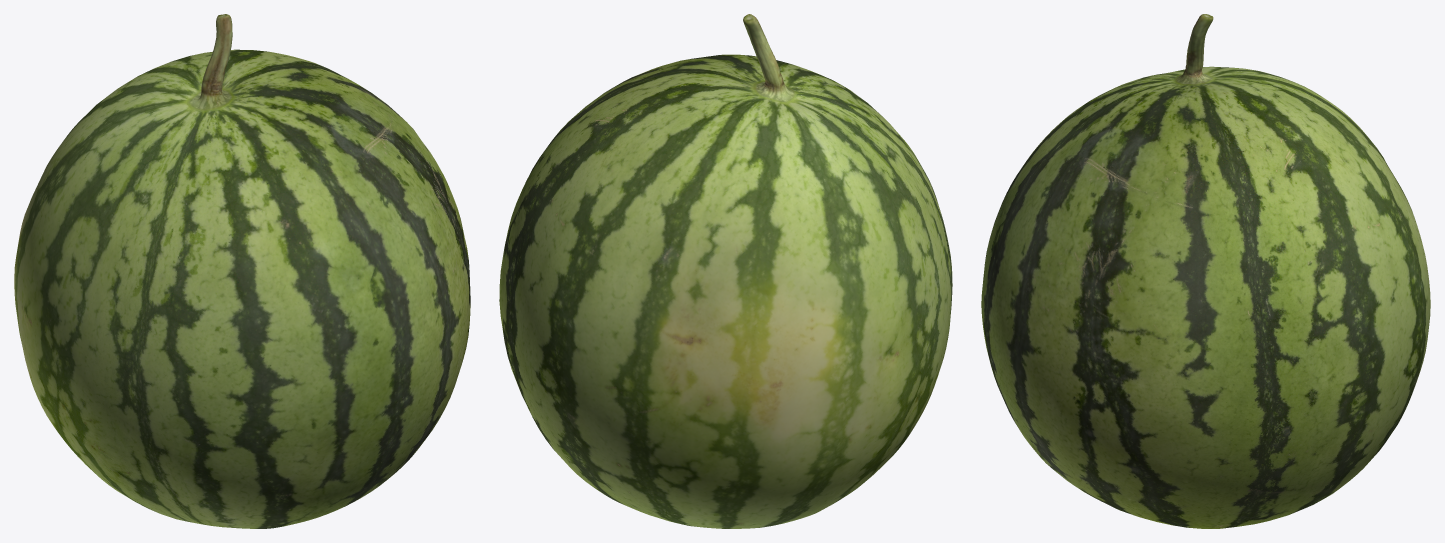
The model's file is SM_Watermelon.fbx.
The picture shows the model from 3 angles, left to right: view 1: azimuth 30°, elevation 25°; view 2: azimuth 150°, elevation 25°; view 3: azimuth 270°, elevation 25°; orthographic projection. The views are drawn at different scales.
Parts seen in each view (by area): view 1: WatermelonPeel, WatermelonStalk; view 2: WatermelonPeel, WatermelonStalk; view 3: WatermelonPeel, WatermelonStalk.
Part boxes in pixels (bbox=[...]): WatermelonPeel: bbox=[14, 49, 470, 528]; WatermelonStalk: bbox=[187, 14, 233, 111]; WatermelonPeel: bbox=[499, 54, 952, 528]; WatermelonStalk: bbox=[743, 14, 796, 103]; WatermelonPeel: bbox=[981, 66, 1430, 528]; WatermelonStalk: bbox=[1173, 14, 1215, 85].
Size of what is drawn, in the model's own units: 26.45 by 26.93 by 31.72.
